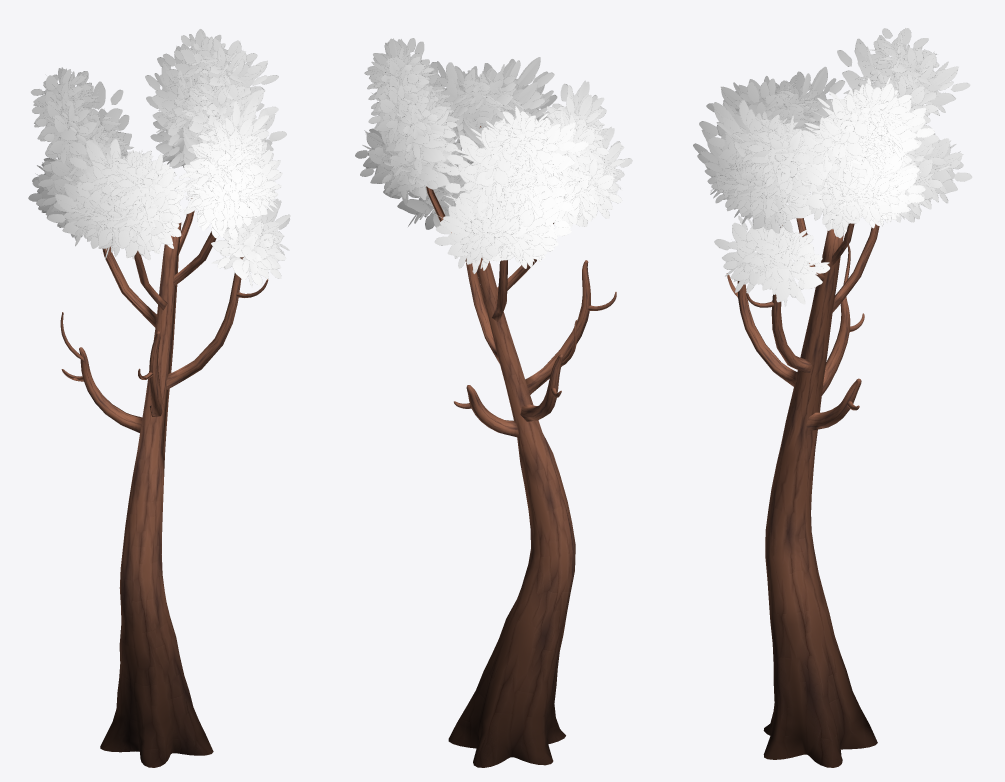
Rendered from CommonTree_4.gltf.
3 views of the same model, side by side, from view 1: azimuth 30°, elevation 25°; view 2: azimuth 150°, elevation 25°; view 3: azimuth 270°, elevation 25° (orthographic). The views are drawn at different scales.
Visible parts, largest first — view 1: CommonTree_4; view 2: CommonTree_4; view 3: CommonTree_4.
Boxes of the visible parts, box(x1,y1,x2,y2) form: CommonTree_4: box(28, 29, 290, 767); CommonTree_4: box(355, 38, 632, 767); CommonTree_4: box(693, 28, 972, 767).
Bounding box in the file's own units: 3.83 × 9.44 × 3.76.
Materials: 2 (2 with a texture image).
